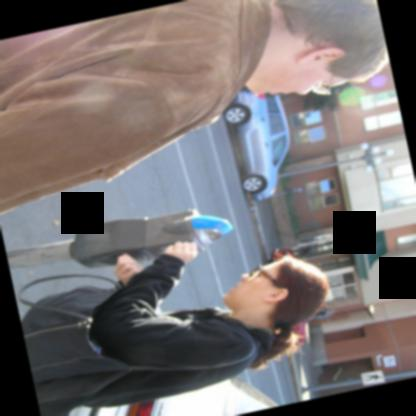handbag: (17, 273, 255, 416)
